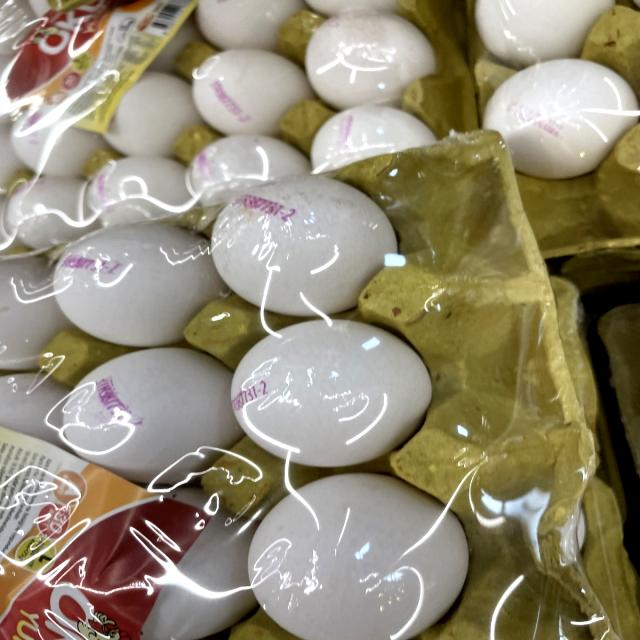egg: (224, 461, 483, 640), (213, 312, 448, 469), (203, 171, 412, 316), (36, 225, 229, 341), (474, 58, 640, 181), (182, 44, 326, 141)
